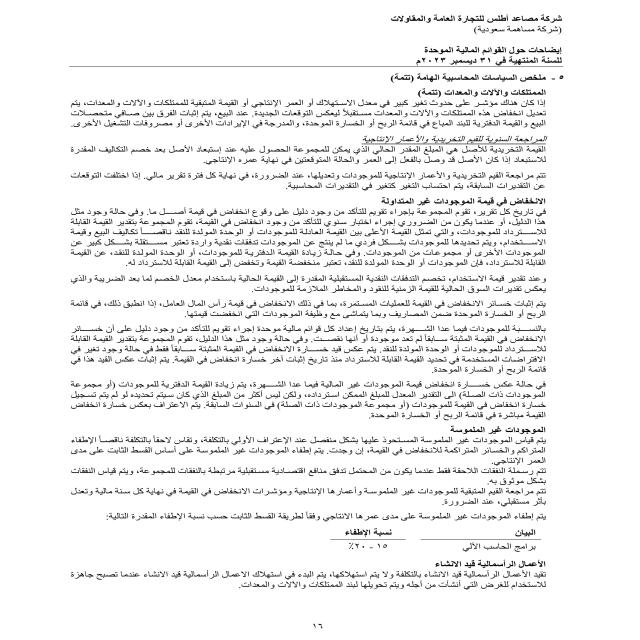notes: (418, 44, 571, 56)
text: (56, 83, 546, 600)
